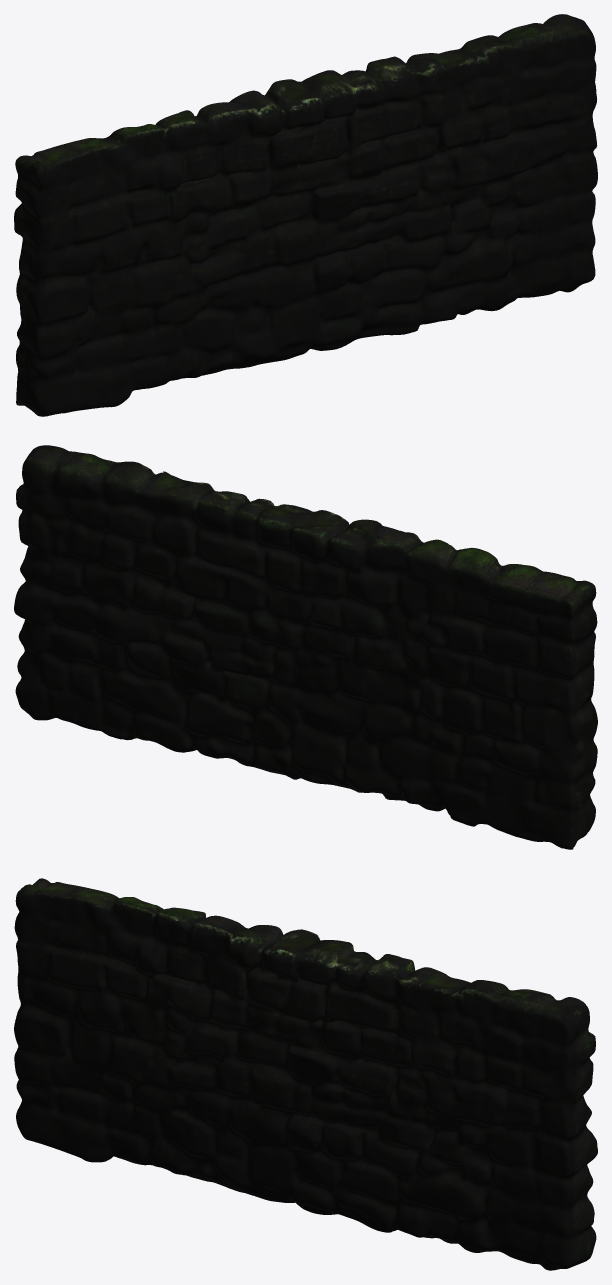
The model's file is Mossy_dark_brick_wall_0422115950_refine.fbx.
3 renders of one model, top to bottom at view 1: azimuth 30°, elevation 25°; view 2: azimuth 150°, elevation 25°; view 3: azimuth 330°, elevation 25°, orthographic.
Parts seen in each view (by area): view 1: Mesh1; view 2: Mesh1; view 3: Mesh1.
Boxes of the visible parts, bbox=[...] form: Mesh1: bbox=[14, 14, 597, 416]; Mesh1: bbox=[14, 445, 597, 849]; Mesh1: bbox=[14, 878, 597, 1270].
Size of the model in its own units: 199 by 90.31 by 22.14.
Materials: 1 (1 with a texture image).
